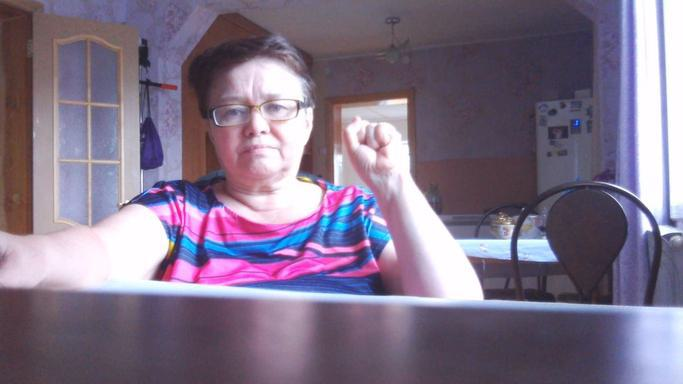fist: (339, 116, 416, 188)
